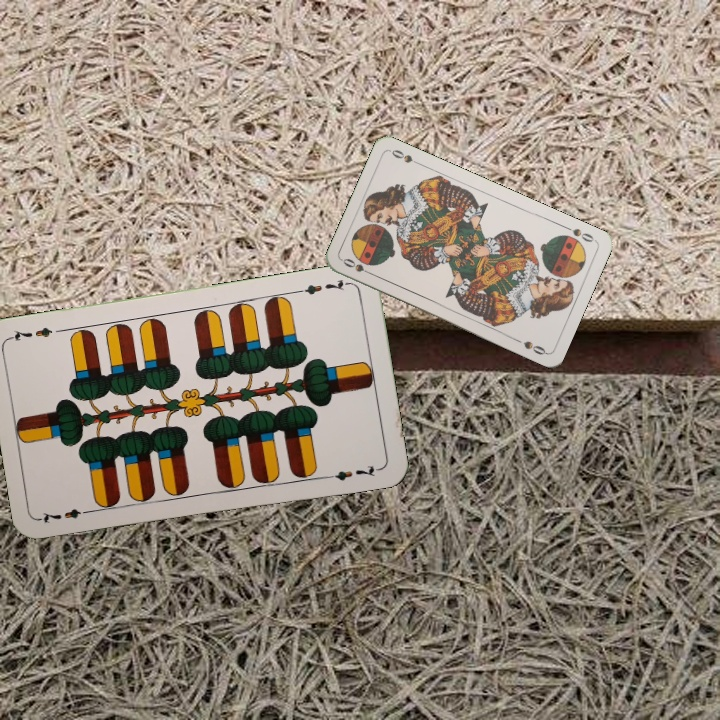E7: (294, 275, 353, 297), (37, 504, 96, 526)
SO: (339, 254, 377, 278), (560, 222, 598, 245)
